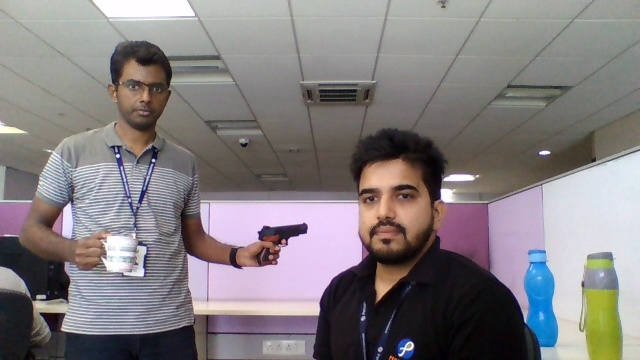gun: (257, 222, 308, 240)
